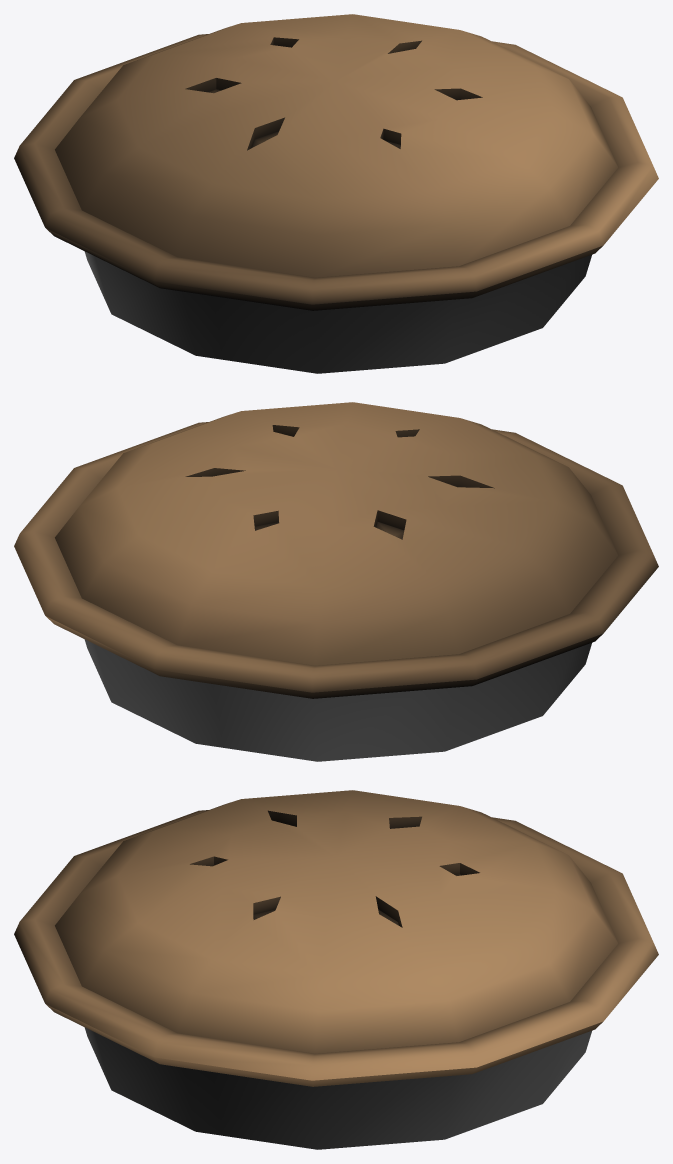
The picture shows the model from 3 angles, top to bottom: view 1: azimuth 30°, elevation 25°; view 2: azimuth 150°, elevation 25°; view 3: azimuth 270°, elevation 25°; orthographic projection.
Parts seen in each view (by area): view 1: ApplePie; view 2: ApplePie; view 3: ApplePie.
Boxes of the visible parts, x1,y1,x2,y2 form: ApplePie: (14,14,658,373); ApplePie: (14,402,658,761); ApplePie: (14,790,658,1149).
Size of the model in its own units: 0.5 by 0.1603 by 0.5.
